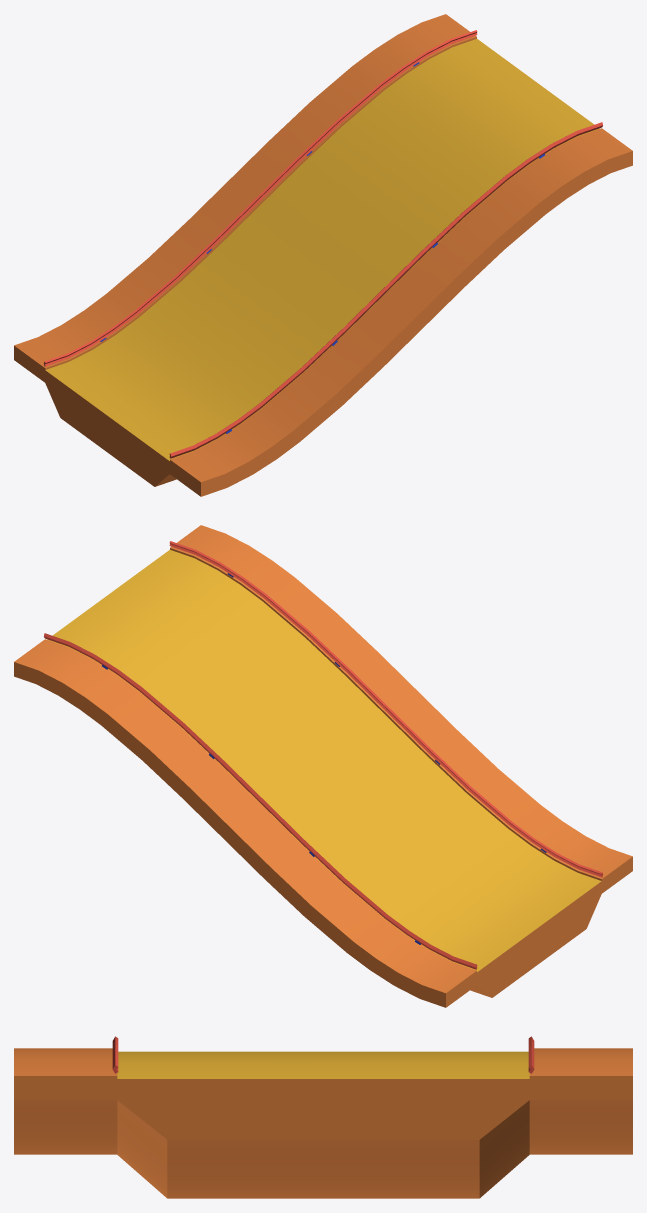
The model's file is BridgeAscending1FBX.fbx.
The picture shows the model from 3 angles, top to bottom: view 1: azimuth 30°, elevation 25°; view 2: azimuth 150°, elevation 25°; view 3: azimuth 270°, elevation 25°; orthographic projection. The views are drawn at different scales.
Parts seen in each view (by area): view 1: BridgeAscending1; view 2: BridgeAscending1; view 3: BridgeAscending1.
Boxes of the visible parts, <box> form: BridgeAscending1: <box>14,14,632,496</box>; BridgeAscending1: <box>14,525,632,1007</box>; BridgeAscending1: <box>14,1036,632,1198</box>.
Bounding box in the file's own units: 100 × 59.99 × 75.
